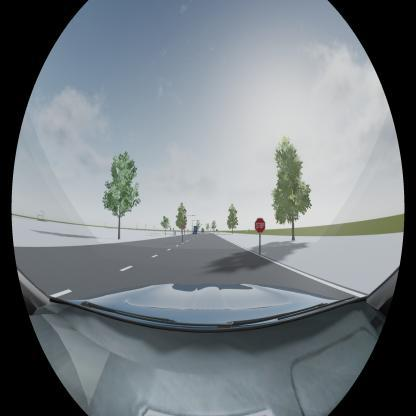Stop: (255, 217, 266, 233)
